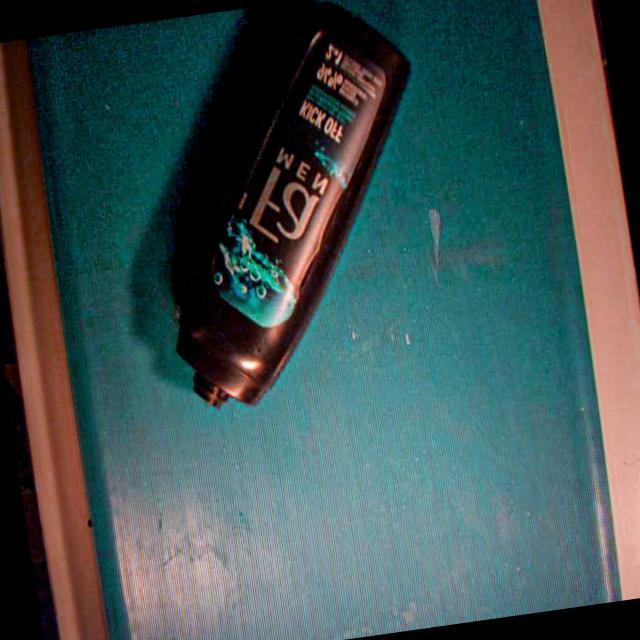HDPE Plastic: (170, 0, 418, 413)
